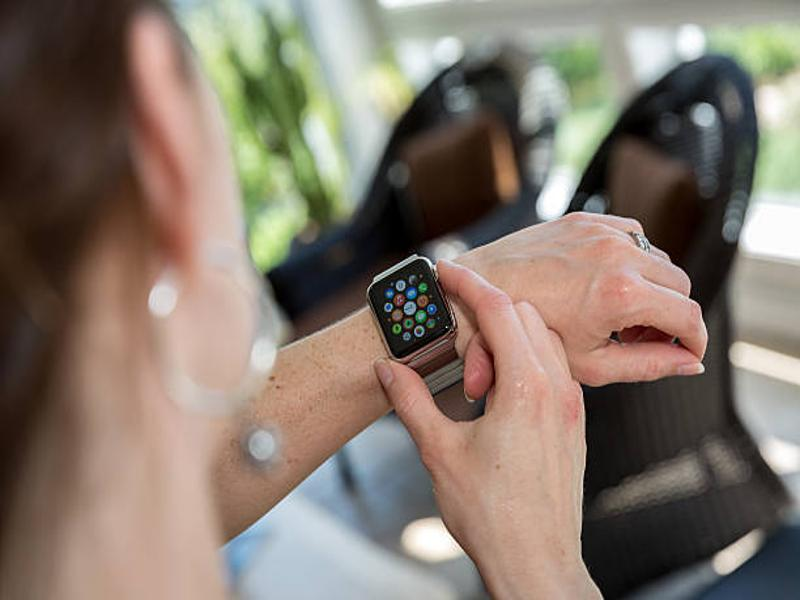watch: (366, 253, 466, 393)
